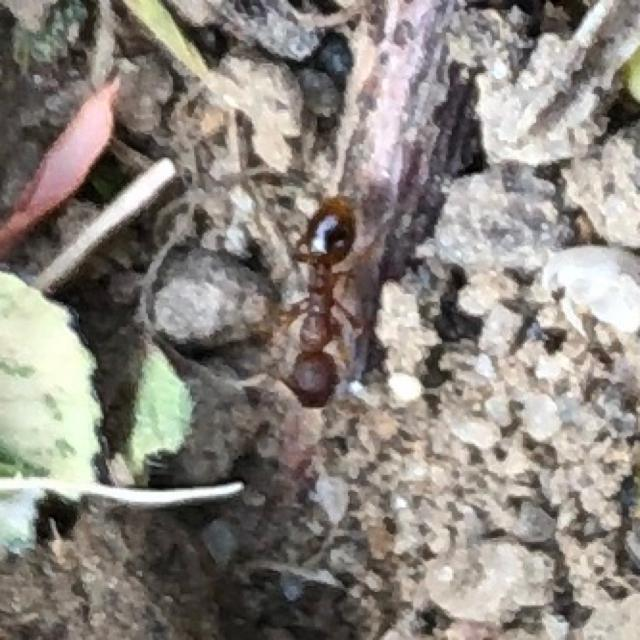Myrmica: (238, 175, 400, 427)
